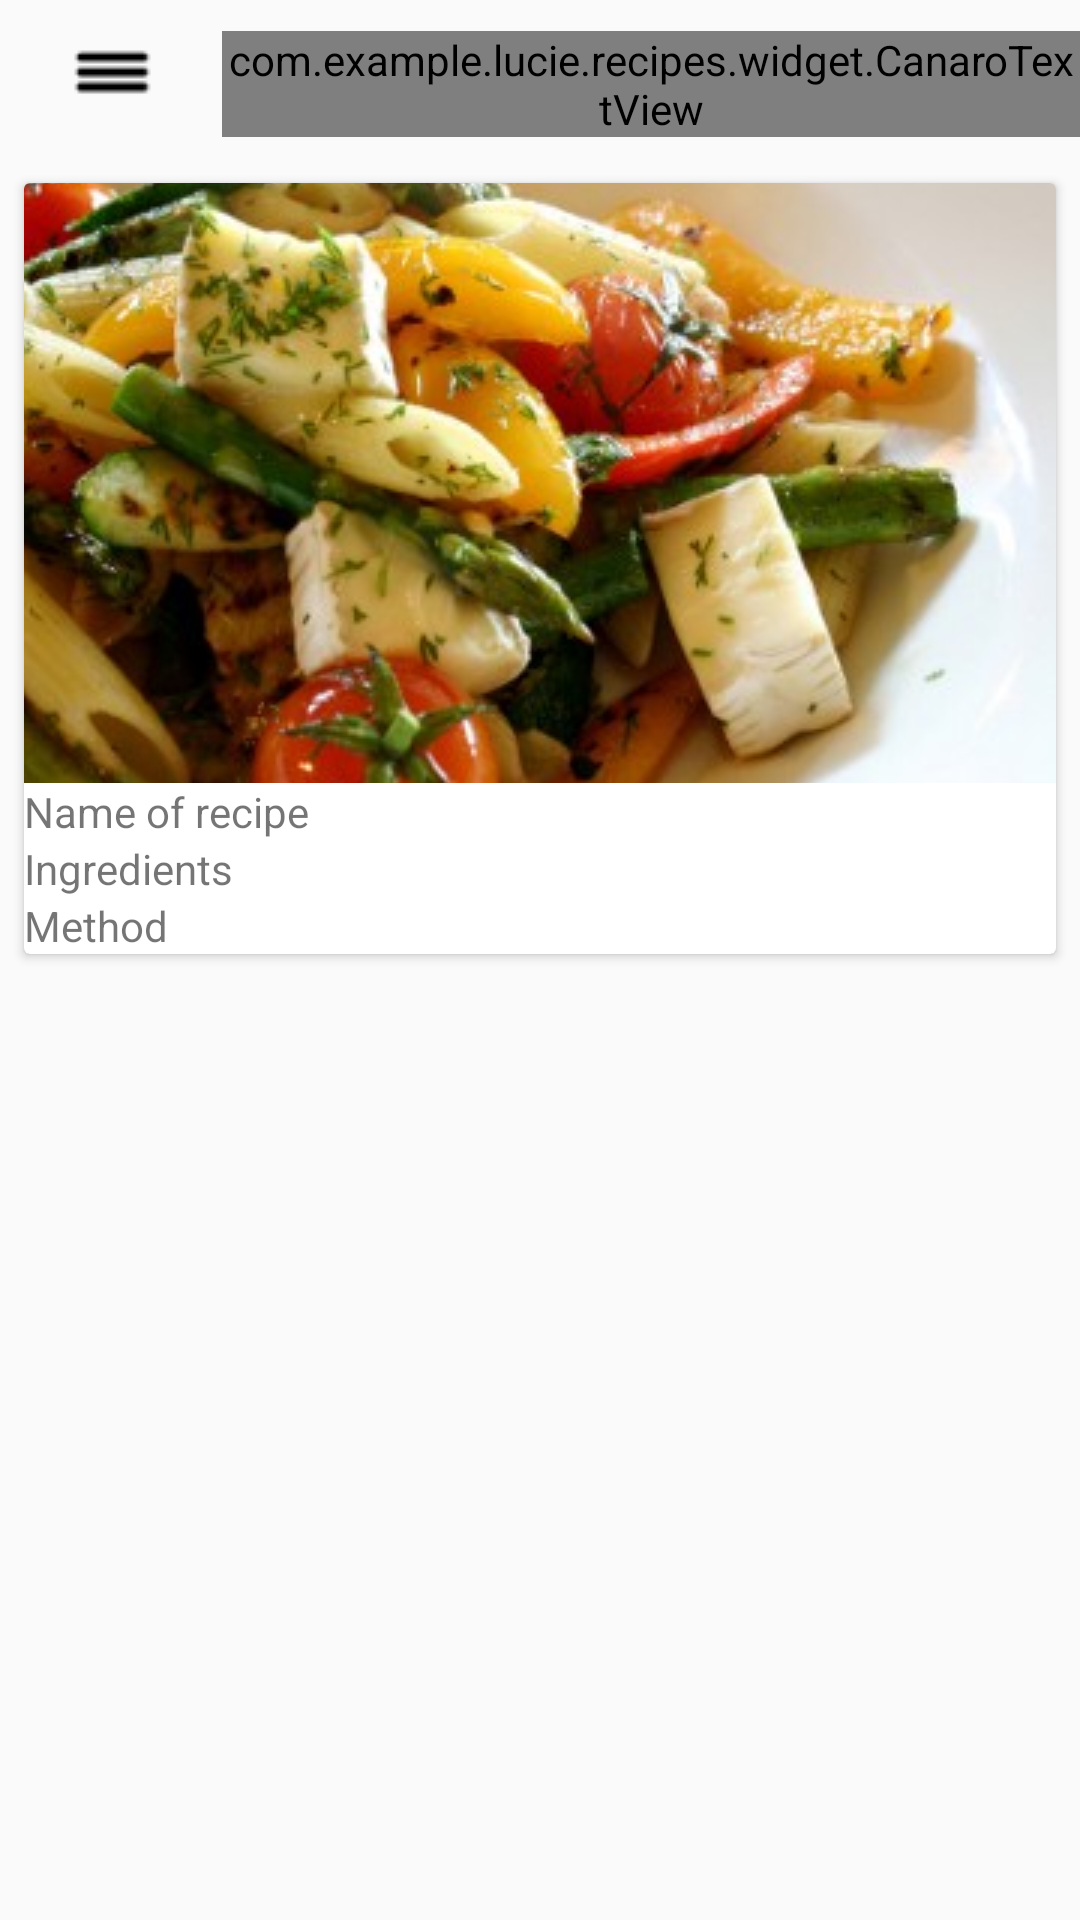

Named icons in this screenshot (1080x1920) and their centers, [x,y]:
menu: [112,72]
